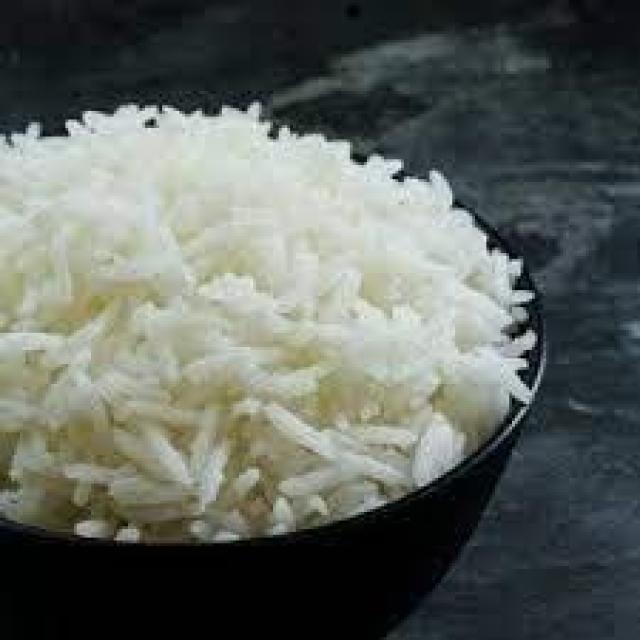rice: (0, 115, 529, 532)
